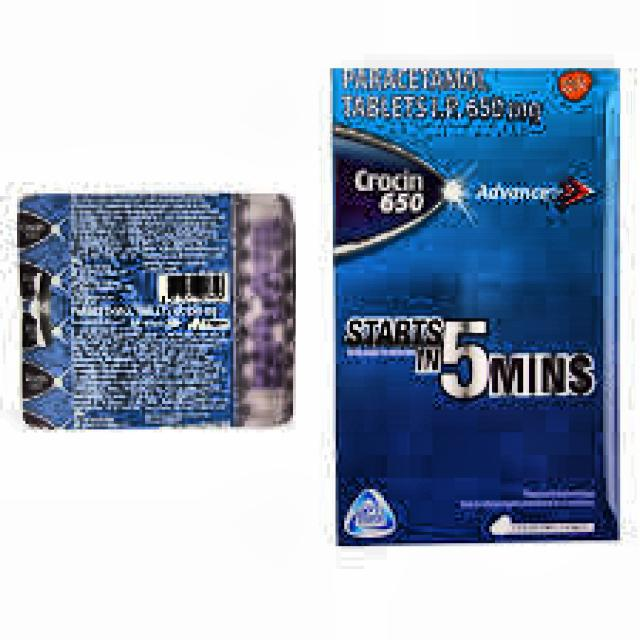Crocin: (336, 137, 441, 251)
